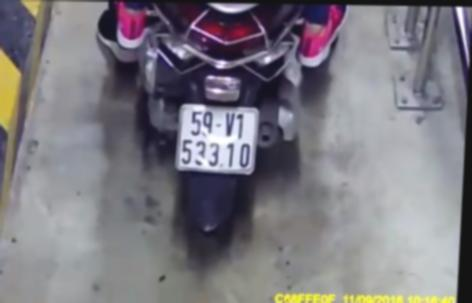License_Plate: (169, 98, 265, 181)
